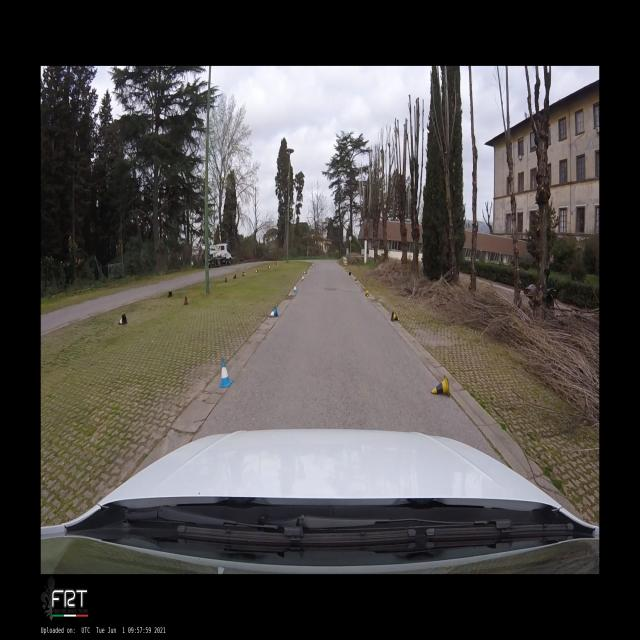blue_cone: (219, 360, 232, 388), (269, 307, 278, 317), (294, 284, 298, 292), (302, 275, 304, 280), (304, 270, 306, 274)
unknown_cone: (119, 313, 128, 325), (183, 294, 189, 305), (167, 292, 172, 298), (225, 275, 227, 282), (233, 274, 236, 278), (243, 272, 246, 276), (256, 270, 258, 272)
yellow_cone: (431, 374, 450, 397), (391, 311, 399, 321), (365, 290, 369, 297), (354, 278, 356, 282), (349, 272, 351, 275)
